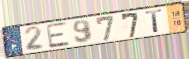2: (23, 26, 46, 52)
7: (95, 14, 117, 41), (120, 12, 140, 39)
9: (72, 19, 93, 44)
E: (45, 21, 72, 50)
T: (144, 8, 165, 34)
